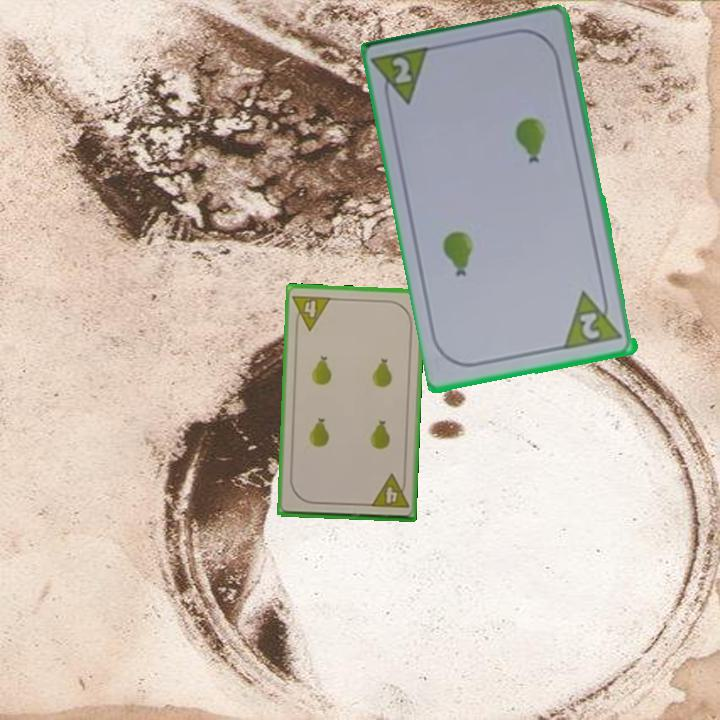2p: (577, 309, 604, 343), (389, 53, 416, 87)
4p: (289, 291, 334, 333), (367, 471, 411, 511)
